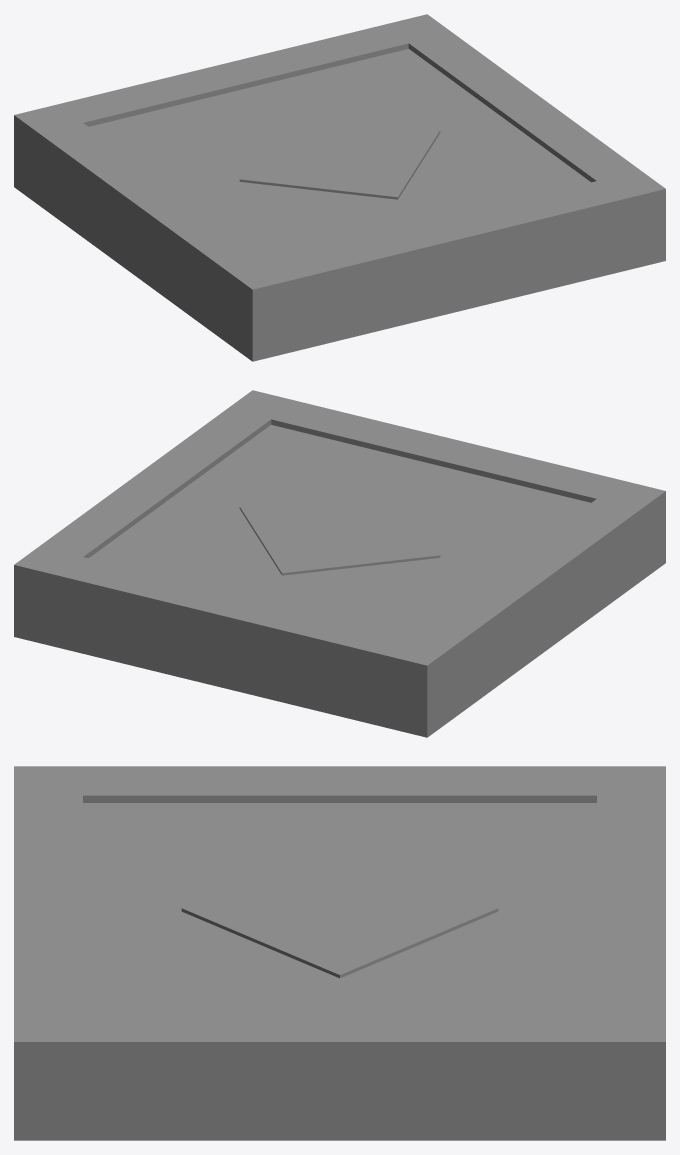
File: Dest_VolcanicCanyon_Floor.FBX
The picture shows the model from 3 angles, top to bottom: view 1: azimuth 30°, elevation 25°; view 2: azimuth 150°, elevation 25°; view 3: azimuth 270°, elevation 25°; orthographic projection. The views are drawn at different scales.
Parts seen in each view (by area): view 1: Box004; view 2: Box004; view 3: Box004.
Part boxes in pixels (bbox=[...]): Box004: bbox=[14, 14, 665, 361]; Box004: bbox=[14, 390, 665, 737]; Box004: bbox=[14, 766, 665, 1140].
Bounding box in the file's own units: 150 × 25 × 150.
